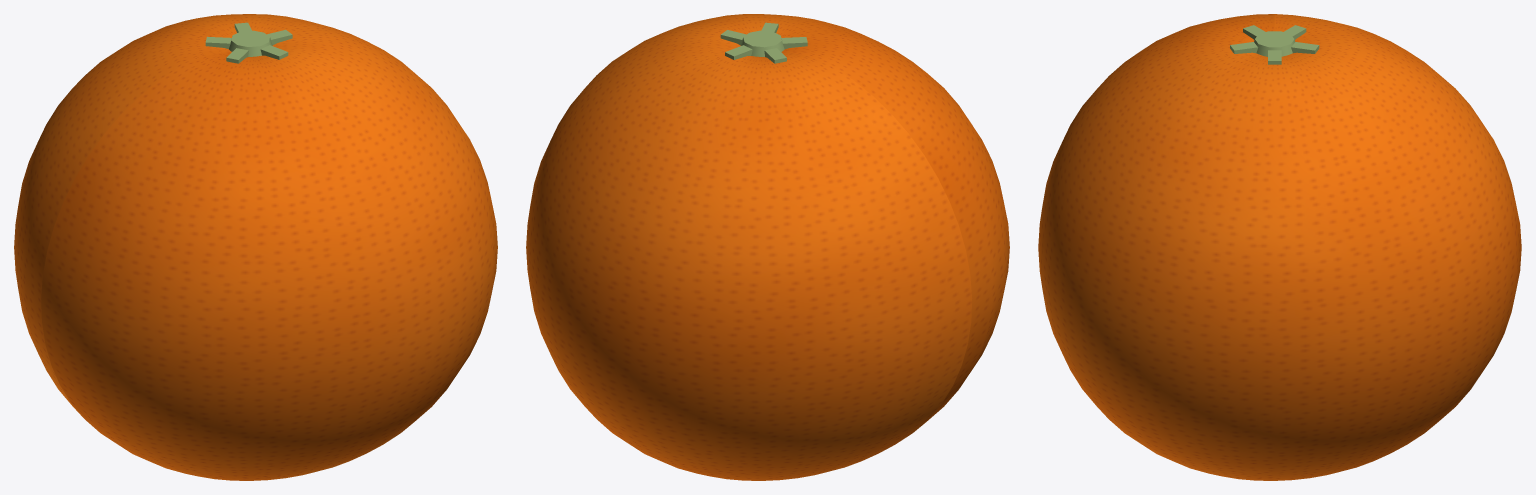
File: orange.glb
3 renders of one model, left to right at view 1: azimuth 30°, elevation 25°; view 2: azimuth 150°, elevation 25°; view 3: azimuth 270°, elevation 25°, orthographic.
Parts seen in each view (by area): view 1: Fruit_04_Orange_Body, Fruit_04_Orange_Calyx_Star; view 2: Fruit_04_Orange_Body, Fruit_04_Orange_Calyx_Star; view 3: Fruit_04_Orange_Body, Fruit_04_Orange_Calyx_Star.
Part boxes in pixels (<box>): Fruit_04_Orange_Body: <box>14,14,497,480</box>; Fruit_04_Orange_Calyx_Star: <box>205,22,292,63</box>; Fruit_04_Orange_Body: <box>526,14,1009,480</box>; Fruit_04_Orange_Calyx_Star: <box>720,22,807,63</box>; Fruit_04_Orange_Body: <box>1038,14,1521,480</box>; Fruit_04_Orange_Calyx_Star: <box>1230,25,1319,64</box>.
Bounding box in the file's own units: 0.078 × 0.0738 × 0.078.
2 materials, 1 textured.
